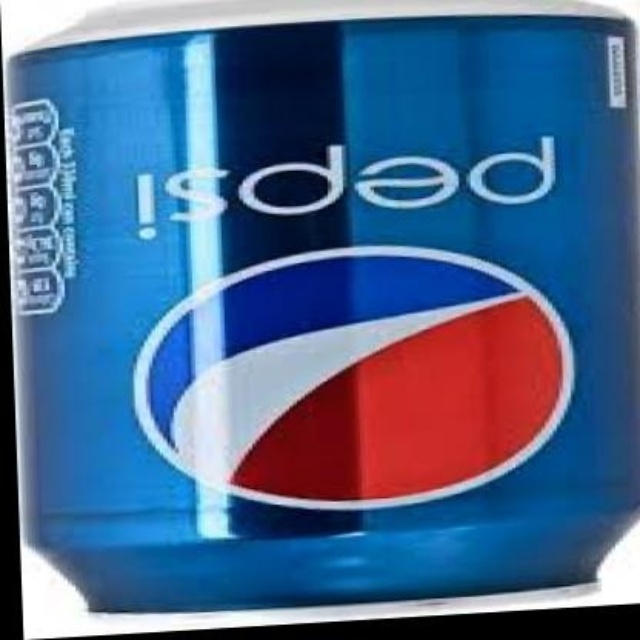trash: (5, 0, 638, 635)
